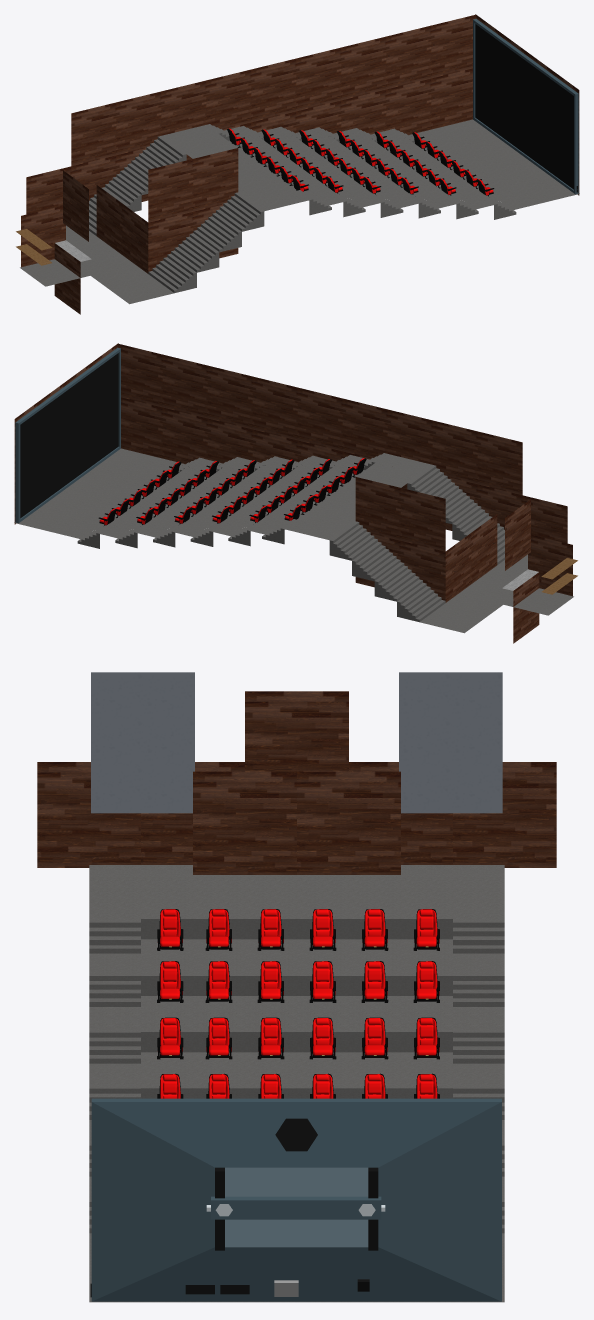
3 views of the same model, one above another, from view 1: azimuth 30°, elevation 25°; view 2: azimuth 150°, elevation 25°; view 3: azimuth 270°, elevation 25° (orthographic). The views are drawn at different scales.
Visible parts, largest first — view 1: CombinedMesh_554, CombinedMesh_551, node_MeshObject-1314111488-PolyPaper21_539, CombinedMesh_553, CombinedMesh_558, CombinedMesh_559, CombinedMesh_557; view 2: CombinedMesh_554, CombinedMesh_551, node_MeshObject-1314111488-PolyPaper21_539, CombinedMesh_553, CombinedMesh_558, CombinedMesh_559, CombinedMesh_557; view 3: node_MeshObject-1314111488-PolyPaper21_539, CombinedMesh_551, CombinedMesh_554, CombinedMesh_552, CombinedMesh_559, CombinedMesh_553, CombinedMesh_558.
Part boxes in pixels (x1=…): CombinedMesh_554: x1=21, y1=14, x2=579, y2=314; CombinedMesh_551: x1=20, y1=119, x2=579, y2=304; node_MeshObject-1314111488-PolyPaper21_539: x1=473, y1=18, x2=578, y2=194; CombinedMesh_553: x1=89, y1=124, x2=516, y2=293; CombinedMesh_558: x1=227, y1=128, x2=494, y2=196; CombinedMesh_559: x1=229, y1=128, x2=493, y2=195; CombinedMesh_557: x1=16, y1=229, x2=52, y2=265; CombinedMesh_554: x1=14, y1=343, x2=572, y2=643; CombinedMesh_551: x1=14, y1=448, x2=573, y2=633; node_MeshObject-1314111488-PolyPaper21_539: x1=15, y1=347, x2=120, y2=523; CombinedMesh_553: x1=77, y1=453, x2=504, y2=622; CombinedMesh_558: x1=98, y1=458, x2=366, y2=525; CombinedMesh_559: x1=99, y1=458, x2=364, y2=524; CombinedMesh_557: x1=541, y1=558, x2=577, y2=594; node_MeshObject-1314111488-PolyPaper21_539: x1=90, y1=1098, x2=501, y2=1301; CombinedMesh_551: x1=89, y1=865, x2=504, y2=1302; CombinedMesh_554: x1=37, y1=691, x2=556, y2=874; CombinedMesh_552: x1=91, y1=672, x2=502, y2=813; CombinedMesh_559: x1=160, y1=909, x2=439, y2=1098; CombinedMesh_553: x1=89, y1=871, x2=504, y2=1236; CombinedMesh_558: x1=157, y1=909, x2=439, y2=1098.
Size of what is drawn, in the model's own units: 45.43 by 13.11 by 20.
10 materials, 6 textured.
